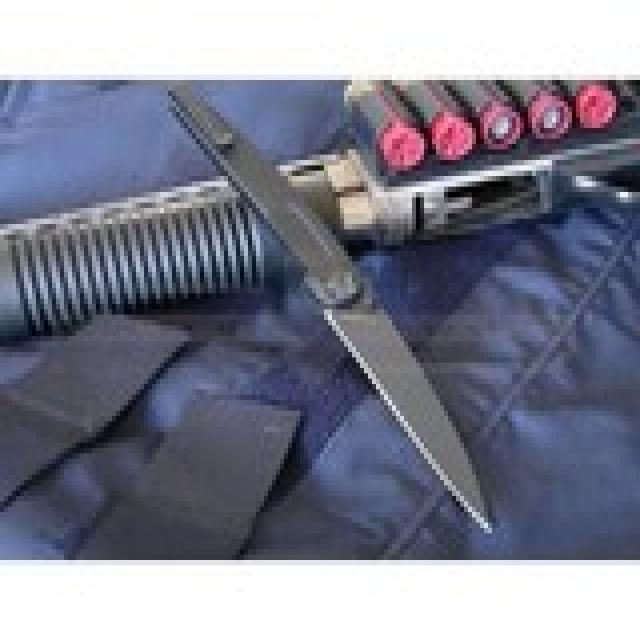Knife: (166, 88, 494, 539)
